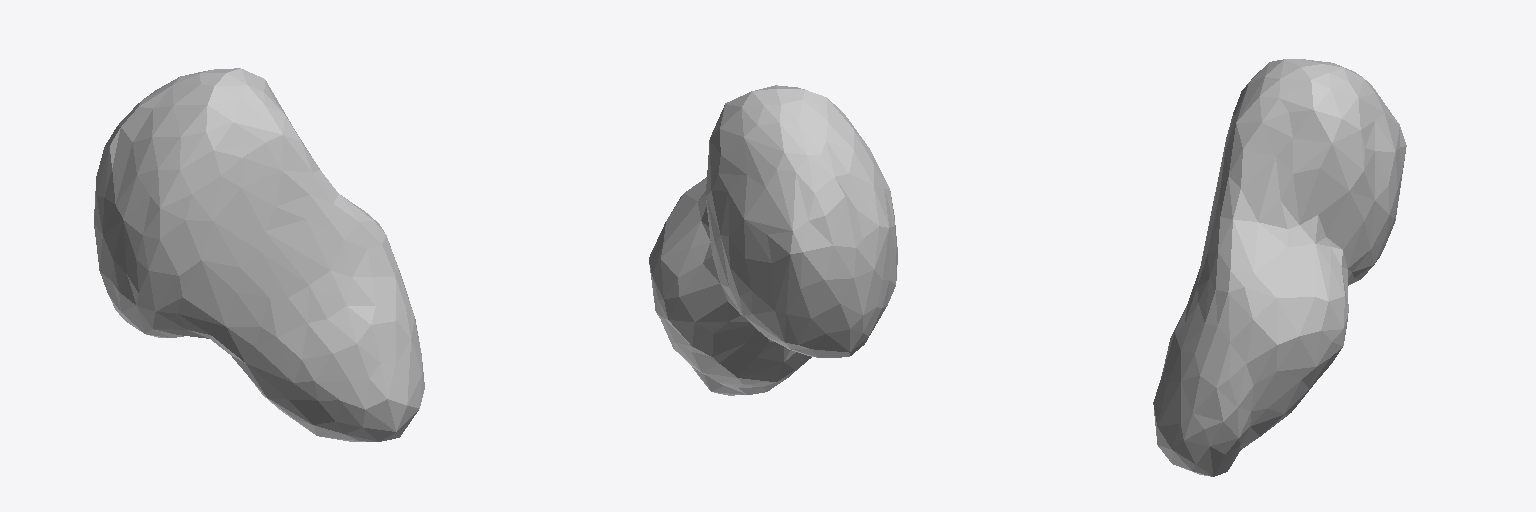
File: tumor01.obj
3 views of the same model, side by side, from view 1: azimuth 30°, elevation 25°; view 2: azimuth 150°, elevation 25°; view 3: azimuth 270°, elevation 25° (orthographic).
Bounding box in the file's own units: 0.9579 × 1.27 × 0.8104.